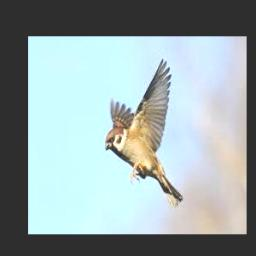Sparrow: (105, 59, 183, 209)
